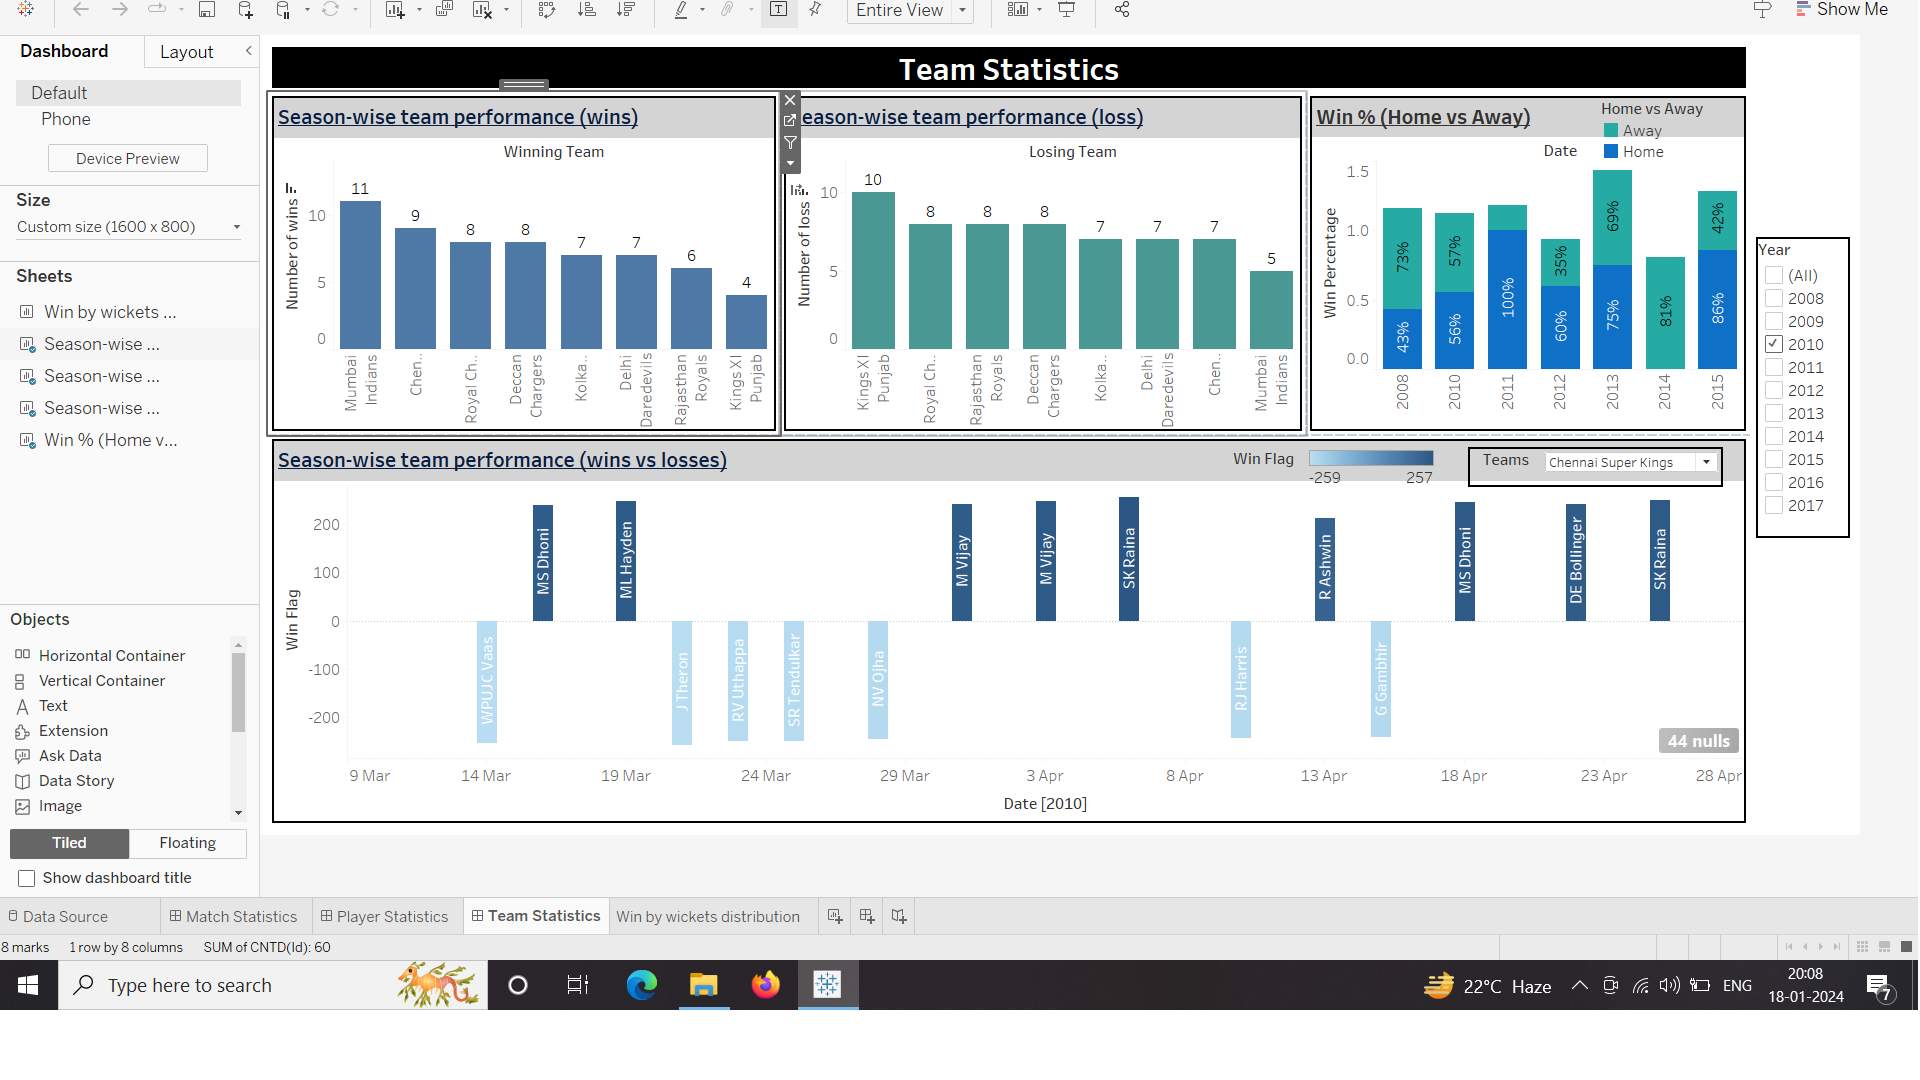

The page's visual inventory and layout, read from the dashboard file:
{"tool":"tableau","page":{"name":"Team Statistics","canvas":[1600,800],"ordinal":2},"visuals":[{"type":"title","box":[8,8,1482,49]},{"type":"worksheet","title":"Season-wise team performance(wins)","mark":"Bar","rows":["id"],"cols":["winner"],"box":[8,57,512,343]},{"type":"worksheet","title":"Season-wise team performance(loss)","mark":"Bar","rows":["id"],"cols":["Calculation_-4811814700619743212"],"box":[520,57,526,343]},{"type":"worksheet","title":"Win % (Home vs Away)","mark":"Bar","rows":["Calculation_-4811814700726841330"],"cols":["date"],"box":[1046,57,444,343]},{"type":"legend","title":"Win % (Home vs Away)","param":"[federated.1ucho6z02y3nsr1040je40x66djt].[none:Calculation_-4811814700726018033:","box":[1341,63,140,64]},{"type":"filter","title":"Season-wise team performance(wins)","param":"[federated.1ucho6z02y3nsr1040je40x66djt].[yr:date:ok]","box":[1496,202,94,301]},{"type":"worksheet","title":"Season-wise team performance","mark":"Bar","rows":["Calculation_-4811814700728111091"],"cols":["date"],"box":[8,400,1482,392]},{"type":"legend","title":"Season-wise team performance","param":"[federated.1ucho6z02y3nsr1040je40x66djt].[sum:Calculation_-4811814700728111091:q","box":[973,411,205,41]},{"type":"parameter","param":"[Parameters].[Parameter 2]","box":[1208,412,255,40]}]}

Visuals, with their boxes on the page's 1600x800 design canvas (x1, y1, x2, y2). These are canvas units, not pixel positions in the 1920x1080 screenshot, which may show the page scaled, cropped or inside an application window:
title: 8,8,1490,57
"Season-wise team performance(wins)" worksheet (Bar marks): 8,57,520,400
"Season-wise team performance(loss)" worksheet (Bar marks): 520,57,1046,400
"Win % (Home vs Away)" worksheet (Bar marks): 1046,57,1490,400
"Win % (Home vs Away)" legend: 1341,63,1481,127
"Season-wise team performance(wins)" filter: 1496,202,1590,503
"Season-wise team performance" worksheet (Bar marks): 8,400,1490,792
"Season-wise team performance" legend: 973,411,1178,452
parameter: 1208,412,1463,452
